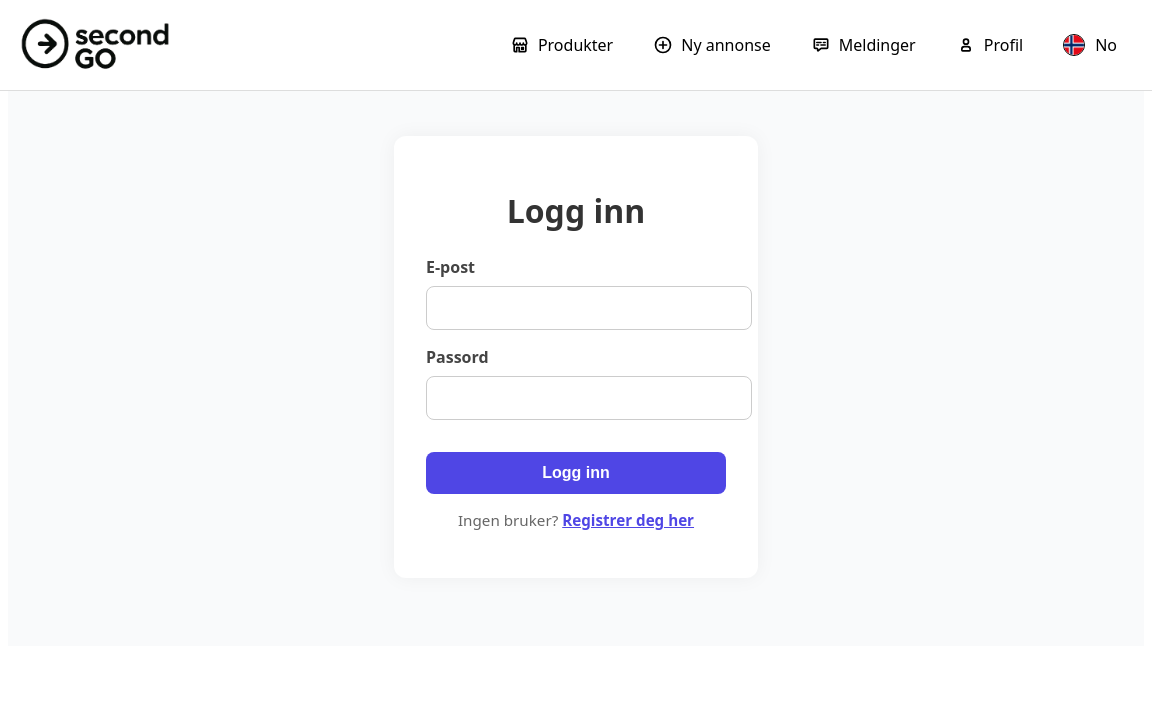
Login Page › displays error message with invalid credentials
Type "wrong@example.com" into the field labelled "E-post".
click(589, 308); type("wrong@example.com")  # box x1=426 y1=286 x2=752 y2=330
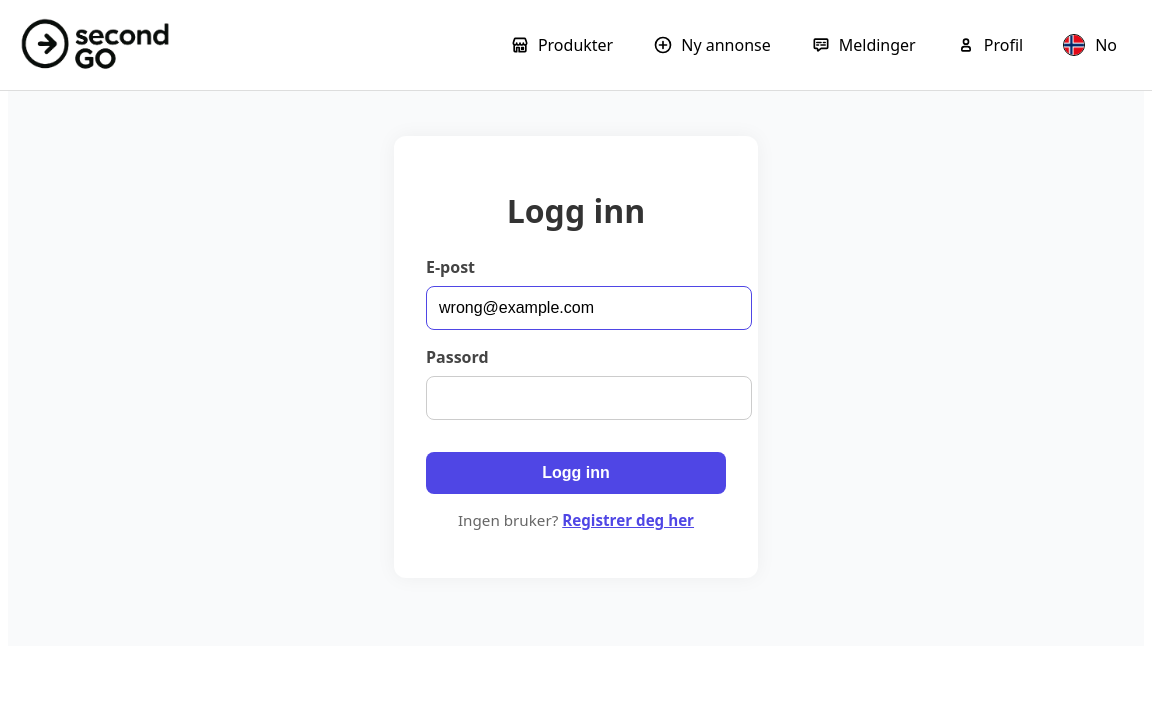
Type "wrongpassword" into the password field labelled "Passord".
click(589, 398); type("wrongpassword")  # box x1=426 y1=376 x2=752 y2=420
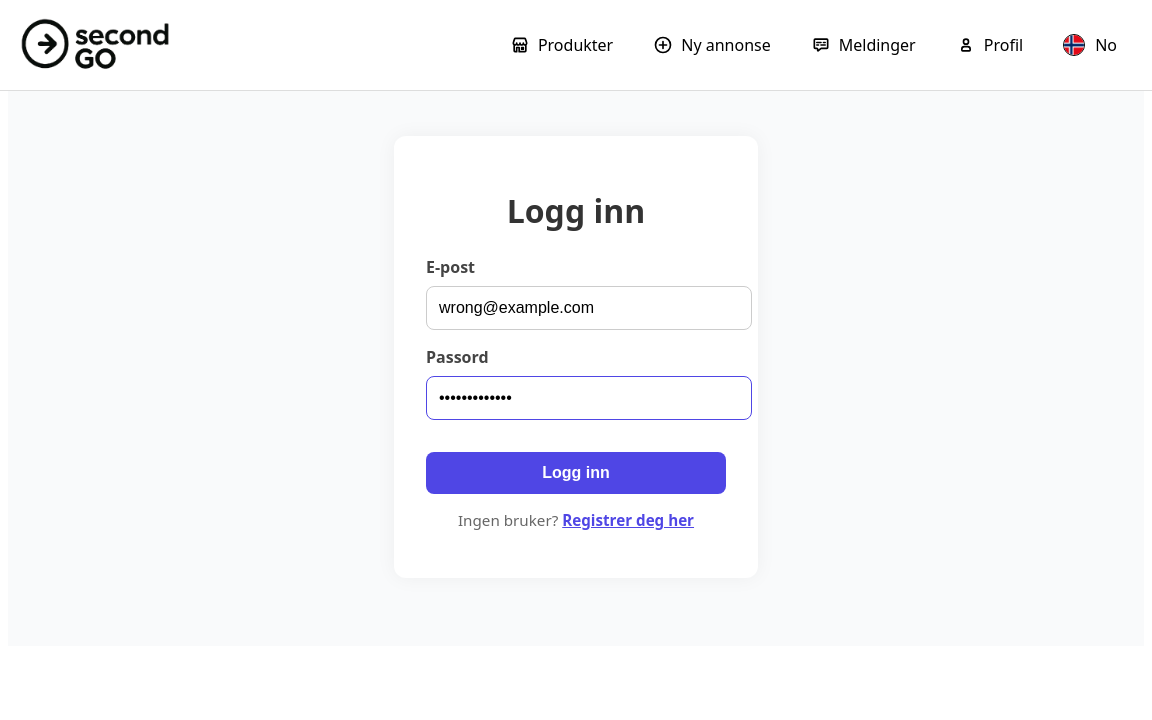
Click the submit button.
click(576, 473)  # box x1=426 y1=452 x2=726 y2=494
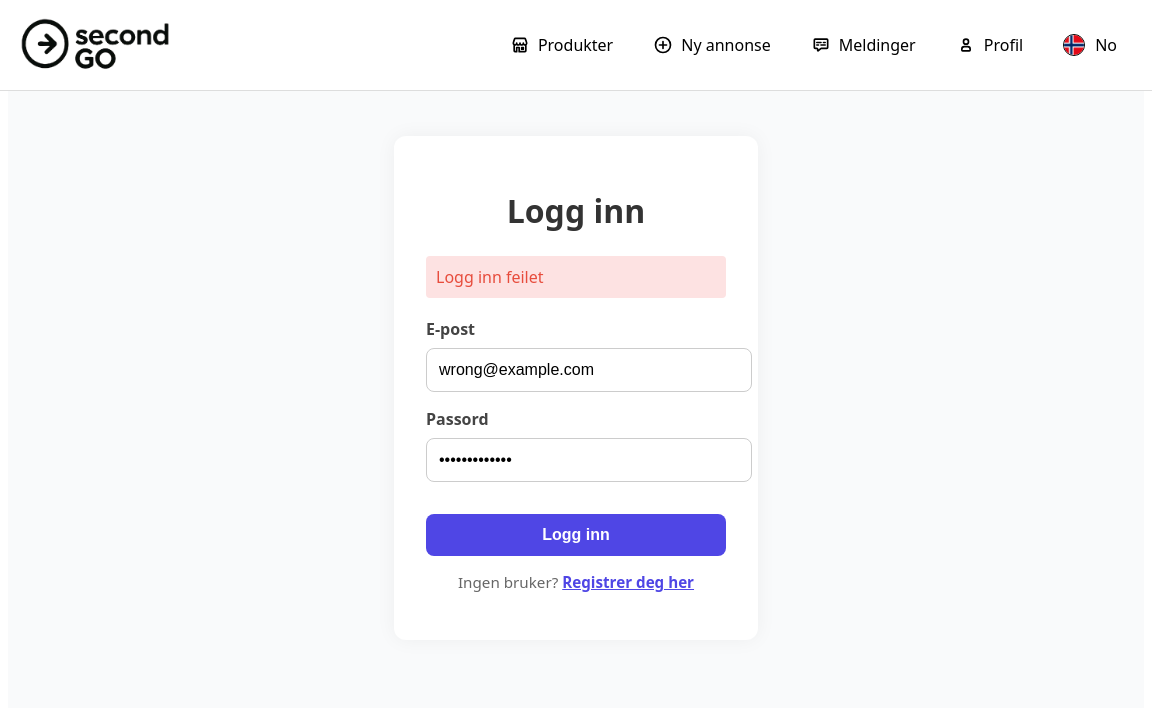
expect the text "Logg inn feilet" is shown: met, box x1=426 y1=256 x2=726 y2=298
